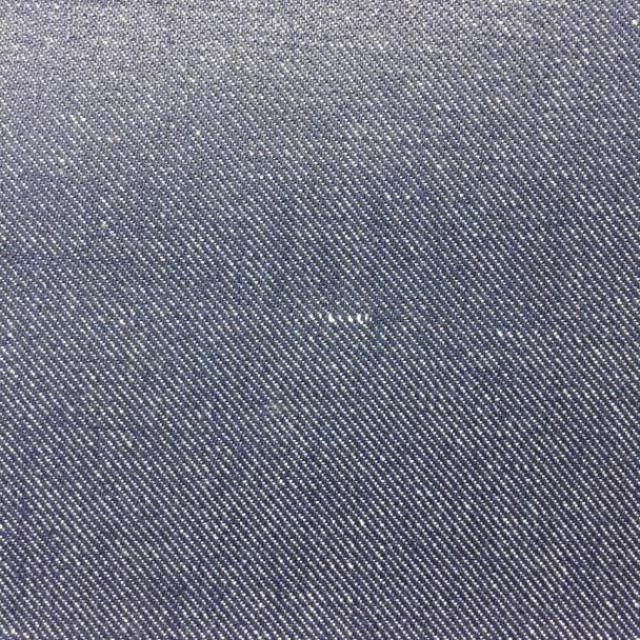Knot: (308, 312, 373, 326)
